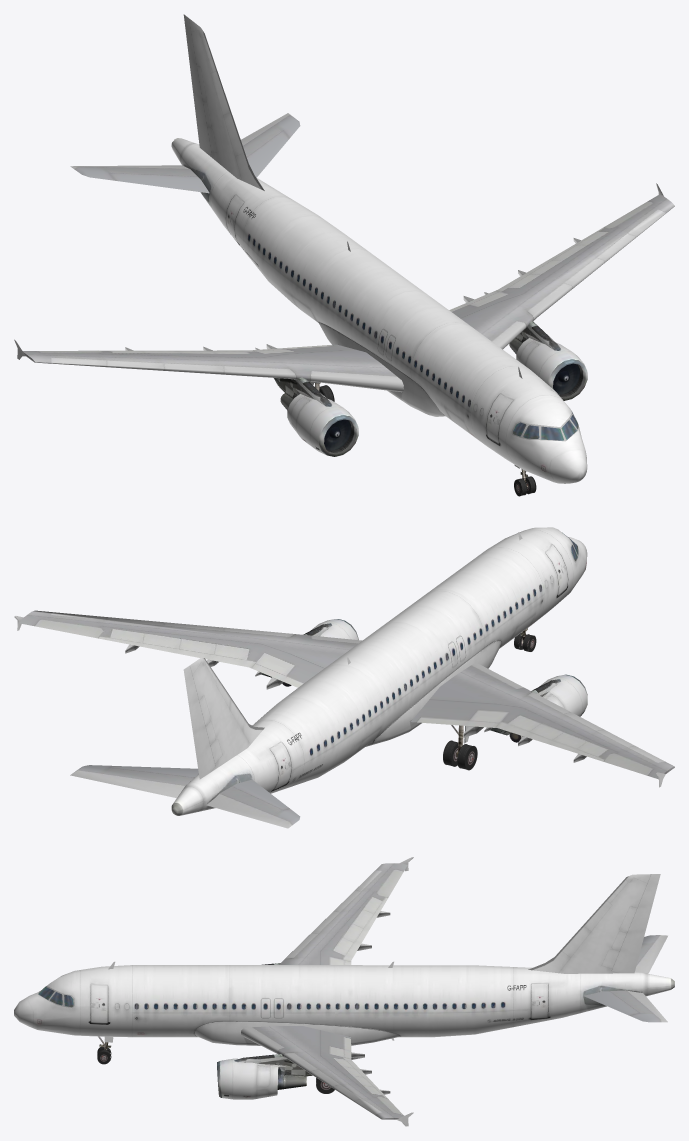
The picture shows the model from 3 angles, top to bottom: view 1: azimuth 30°, elevation 25°; view 2: azimuth 150°, elevation 25°; view 3: azimuth 270°, elevation 25°; orthographic projection. The views are drawn at different scales.
Visible parts, largest first — view 1: Object_4, Object_8, Object_7, Object_6; view 2: Object_4, Object_8, Object_5, Object_9; view 3: Object_4, Object_8.
Boxes of the visible parts, x1,y1,x2,y2 form: Object_4: [14, 14, 663, 486]; Object_8: [23, 113, 674, 406]; Object_7: [280, 338, 580, 450]; Object_6: [513, 412, 578, 440]; Object_4: [14, 527, 665, 815]; Object_8: [19, 610, 674, 828]; Object_5: [443, 634, 536, 770]; Object_9: [443, 633, 532, 769]; Object_4: [14, 857, 674, 1126]; Object_8: [234, 863, 667, 1119].
Size of the model in its own units: 34.38 by 11.79 by 37.62.
6 materials, 6 textured.
